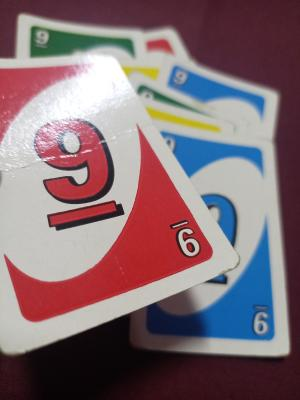num_9: (25, 112, 126, 239), (169, 219, 213, 267), (248, 299, 272, 344), (30, 25, 57, 57)
